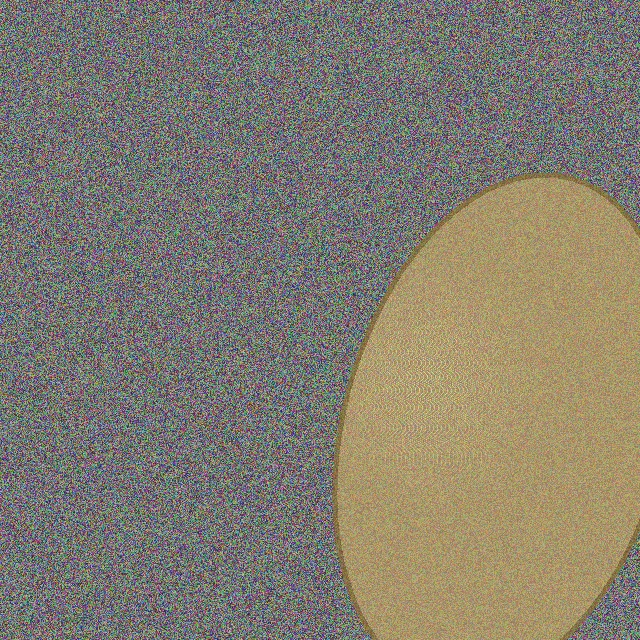lens: (335, 176, 640, 640)
